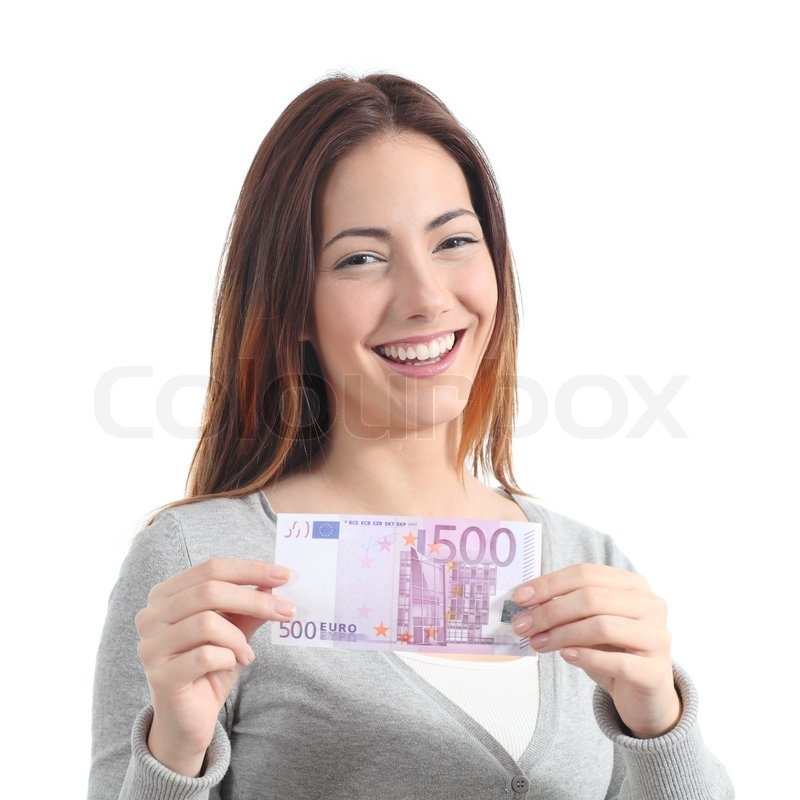billete: (268, 511, 548, 660)
